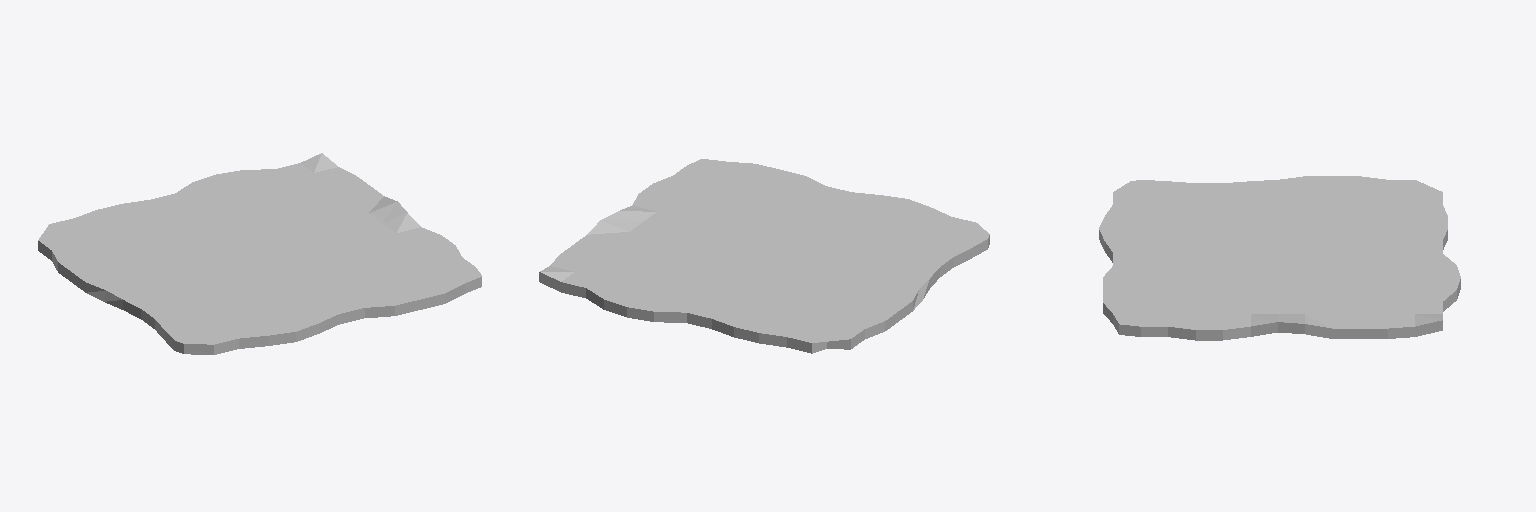
The model's file is oil.obj.
The picture shows the model from 3 angles: view 1: azimuth 30°, elevation 25°; view 2: azimuth 150°, elevation 25°; view 3: azimuth 270°, elevation 25°; orthographic projection.
Parts seen in each view (by area): view 1: pCube4; view 2: pCube4; view 3: pCube4.
Boxes of the visible parts, box(x1,y1,x2,y2) form: pCube4: box(38, 153, 481, 354); pCube4: box(539, 159, 989, 353); pCube4: box(1099, 176, 1460, 340).
Bounding box in the file's own units: 6.82 × 0.315 × 6.79.